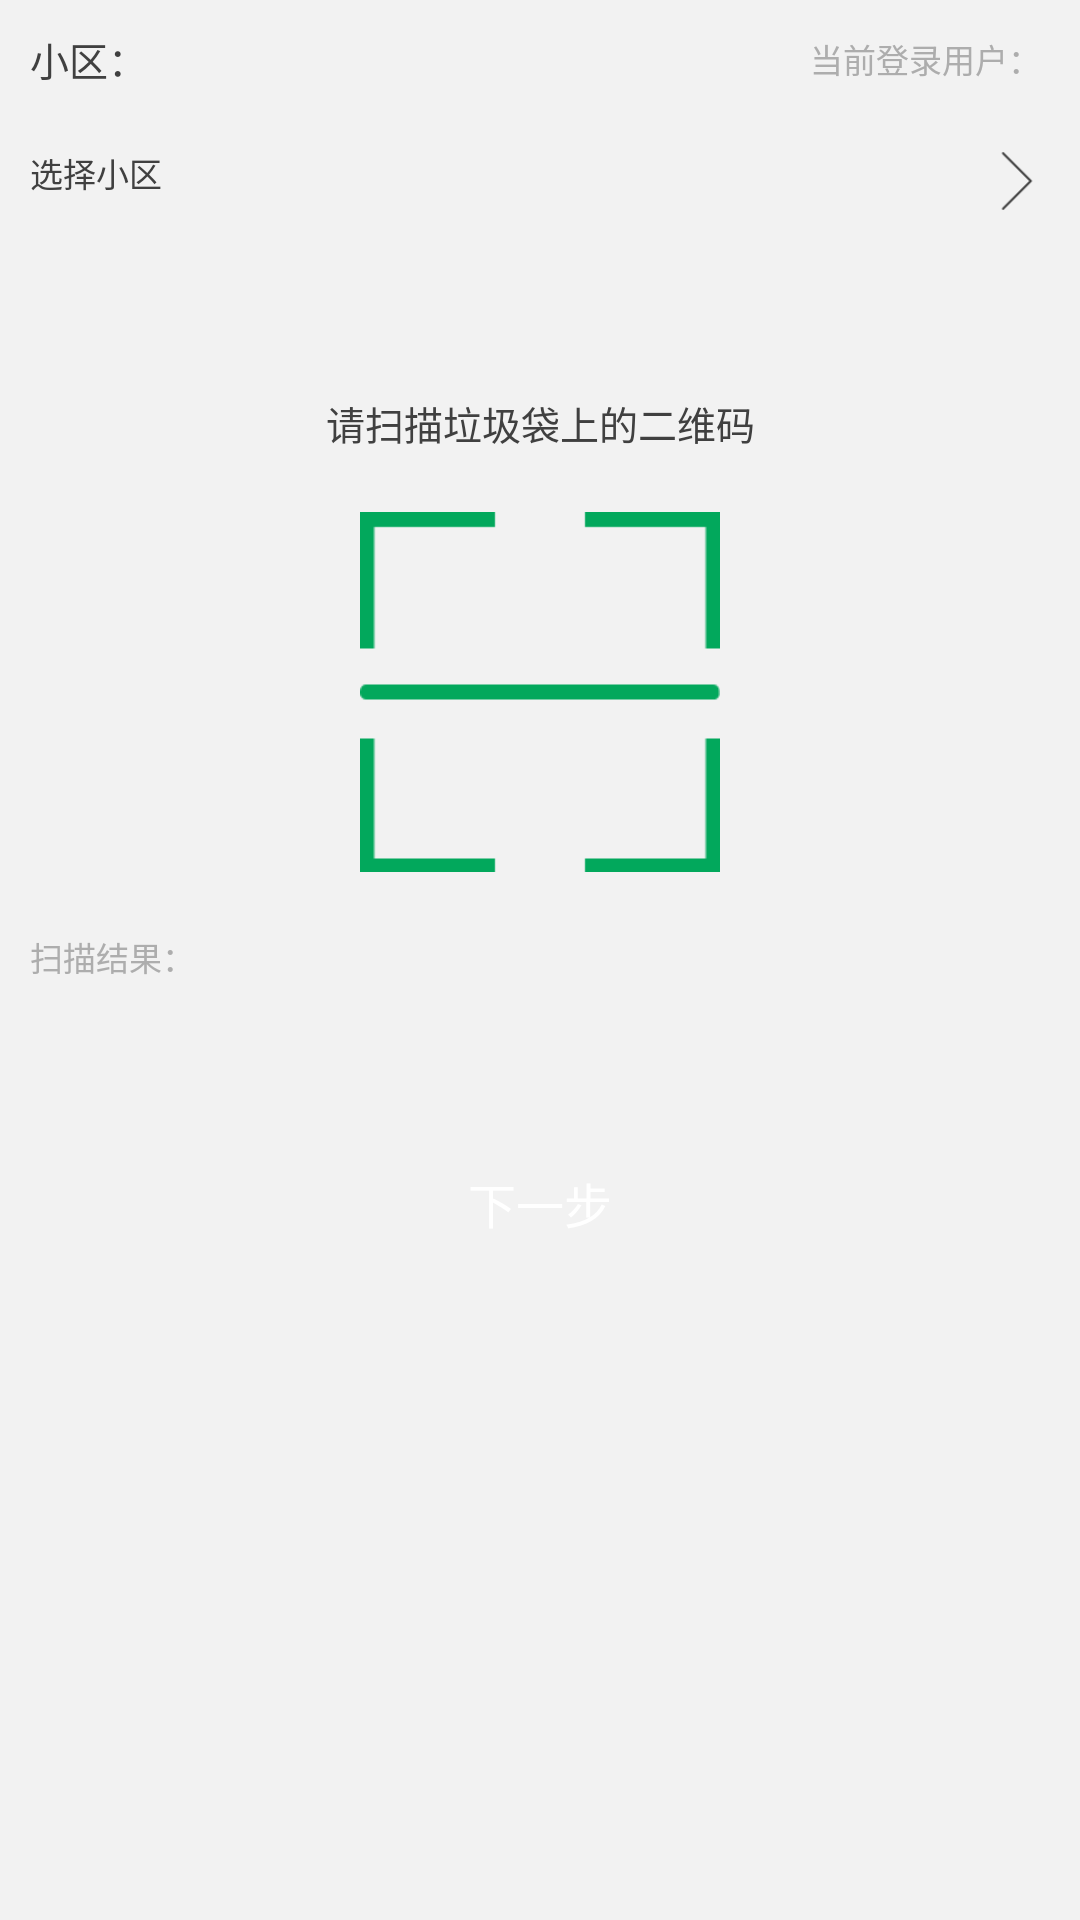

Point at icon controls on the screen. Image size 1080px x 1920px, points as point (x, y).
right: point (1016, 181)
